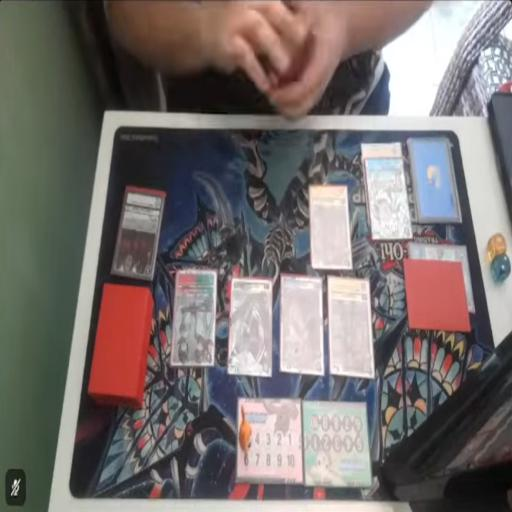card: (169, 270, 219, 368), (226, 277, 272, 376), (112, 191, 166, 273), (280, 278, 324, 376), (330, 274, 371, 376), (364, 158, 414, 240), (309, 183, 353, 267), (361, 139, 402, 159)
